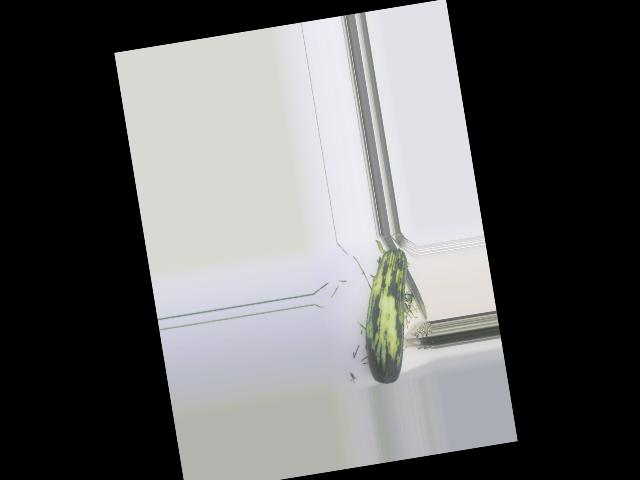cucumber: (350, 246, 425, 386)
